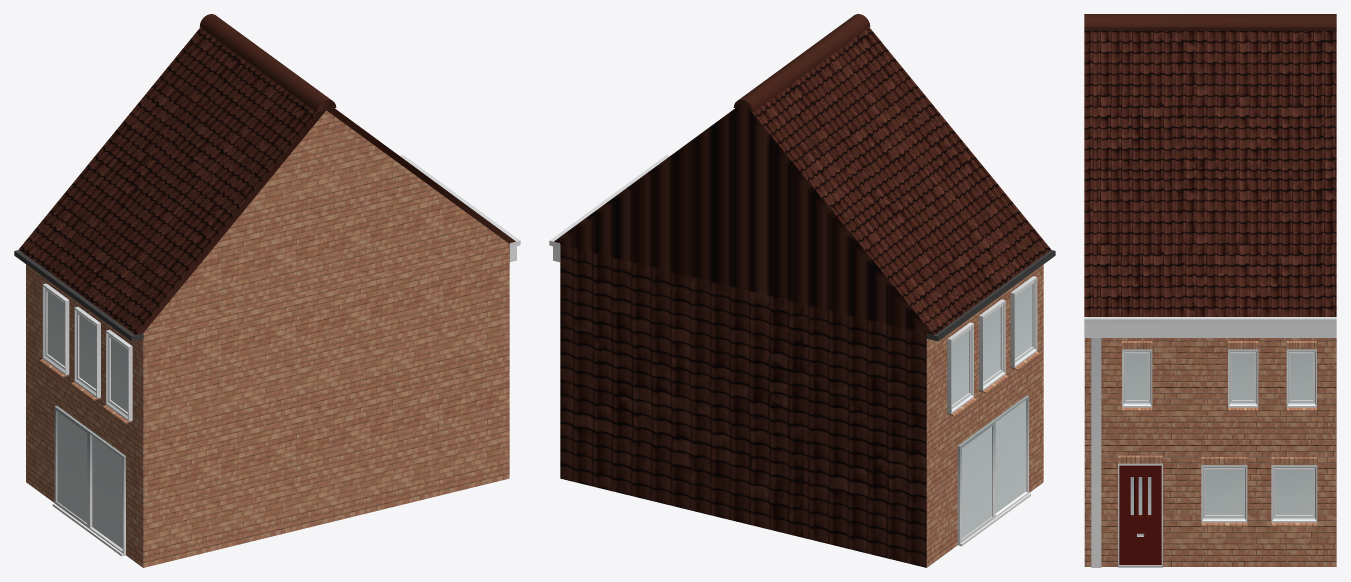
The model's file is It_Bynt_10.fbx.
3 renders of one model, left to right at view 1: azimuth 30°, elevation 25°; view 2: azimuth 150°, elevation 25°; view 3: azimuth 270°, elevation 25°, orthographic. The views are drawn at different scales.
Visible parts, largest first — view 1: It_Bynt_10; view 2: It_Bynt_10; view 3: It_Bynt_10.
Part boxes in pixels (x1,y1,x2,y2): It_Bynt_10: [14, 14, 520, 567]; It_Bynt_10: [549, 14, 1055, 567]; It_Bynt_10: [1084, 14, 1336, 567].
Bounding box in the file's own units: 1006 × 1047 × 526.
